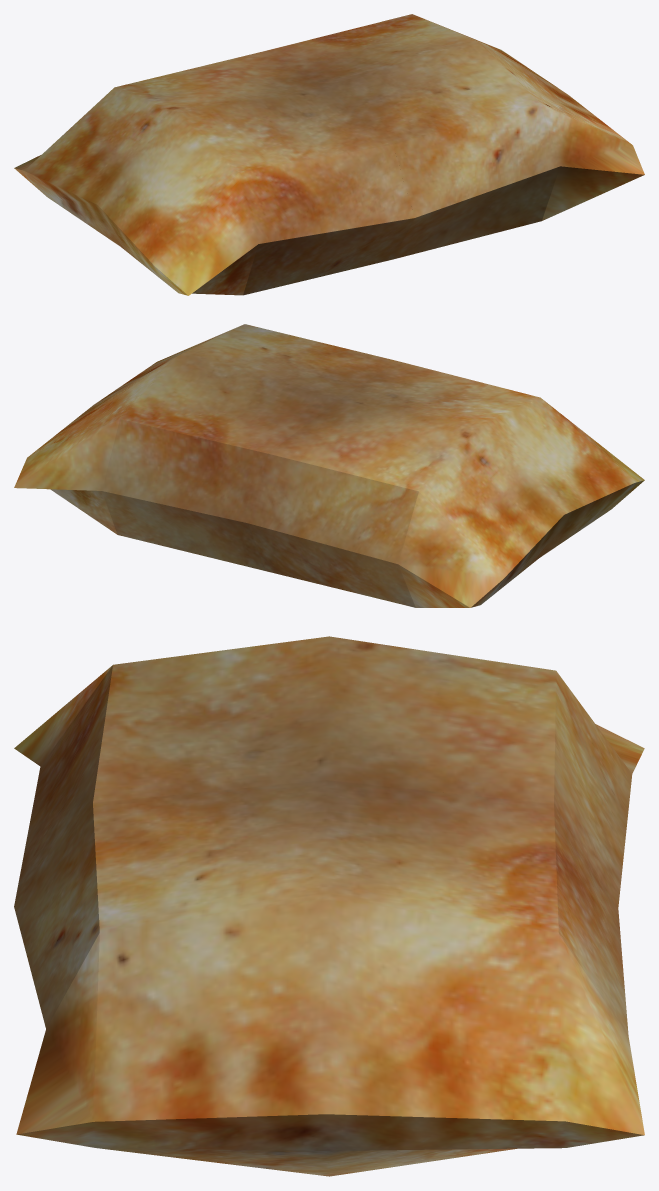
Rendered from MeatPies_3half.fbx.
The picture shows the model from 3 angles, top to bottom: view 1: azimuth 30°, elevation 25°; view 2: azimuth 150°, elevation 25°; view 3: azimuth 270°, elevation 25°; orthographic projection. The views are drawn at different scales.
Parts seen in each view (by area): view 1: half1, half2; view 2: half1, half2; view 3: half2, half1.
Boxes of the visible parts, x1,y1,x2,y2 form: half1: (14,50,414,295); half2: (267,14,644,259); half1: (248,361,644,607); half2: (14,324,396,570); half2: (14,780,644,1176); half1: (14,636,644,907).
Size of the model in its own units: 0.263 by 0.0807 by 0.1665.
